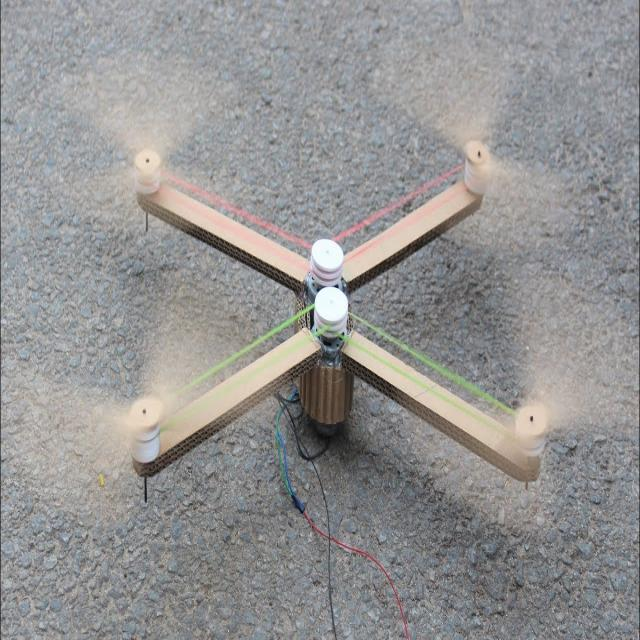drone: (24, 89, 624, 573)
